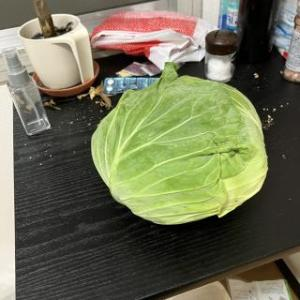cabbage: (90, 62, 268, 228)
